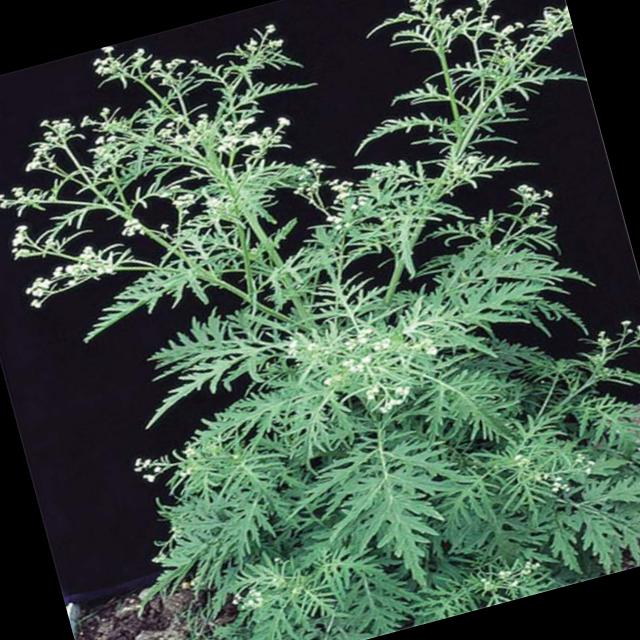Poisonous-Parthenium: (0, 0, 640, 474), (135, 334, 640, 640)
